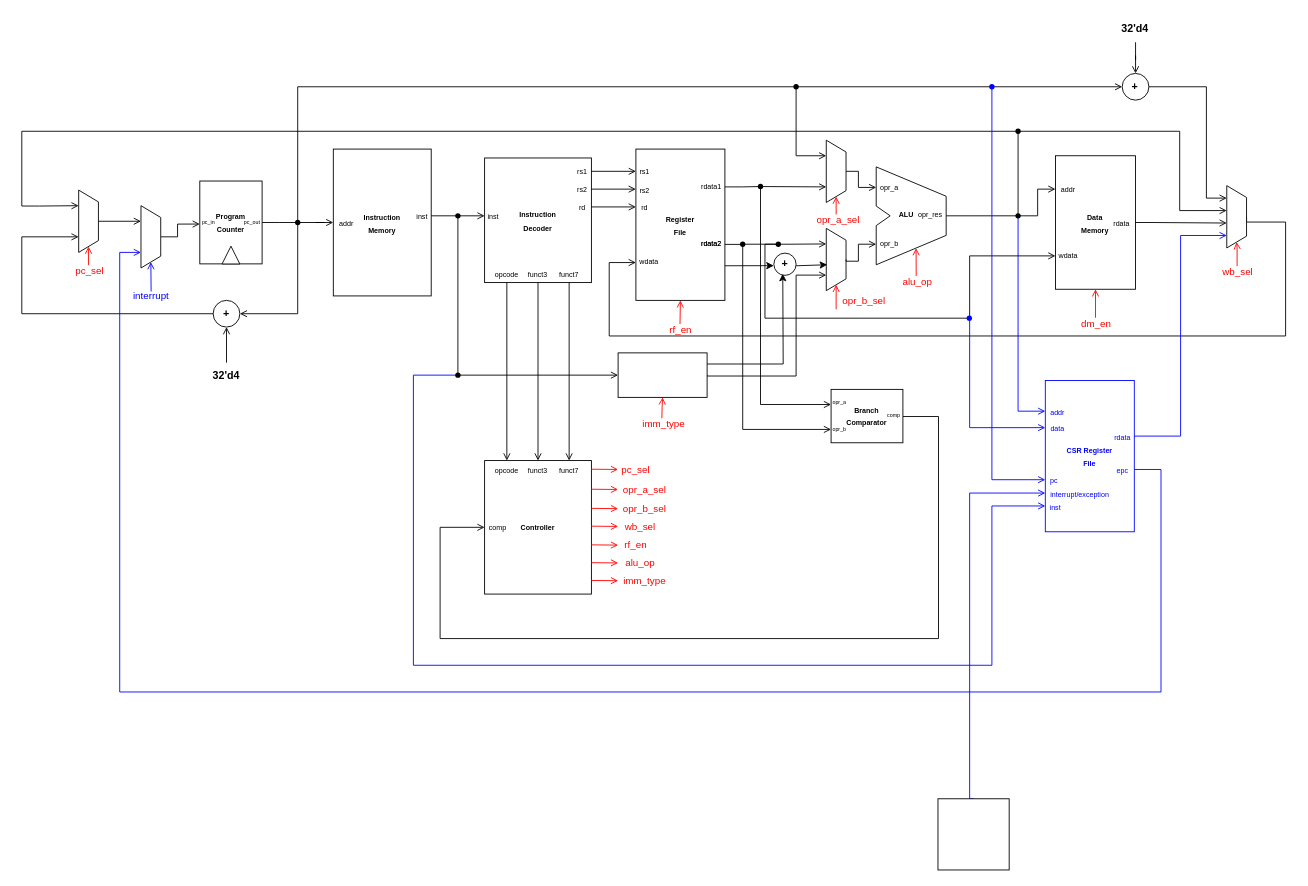
This 1308x886 diagram has some shape labels left out. The shapes that lost their labels are listed below. From the top down, each one's centre as x and y in pixels, then its label:
point (662, 374): Immediate Generator
point (973, 834): Timer
